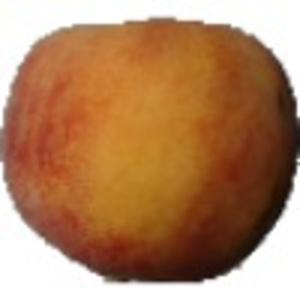pêssego: (1, 16, 300, 286)
